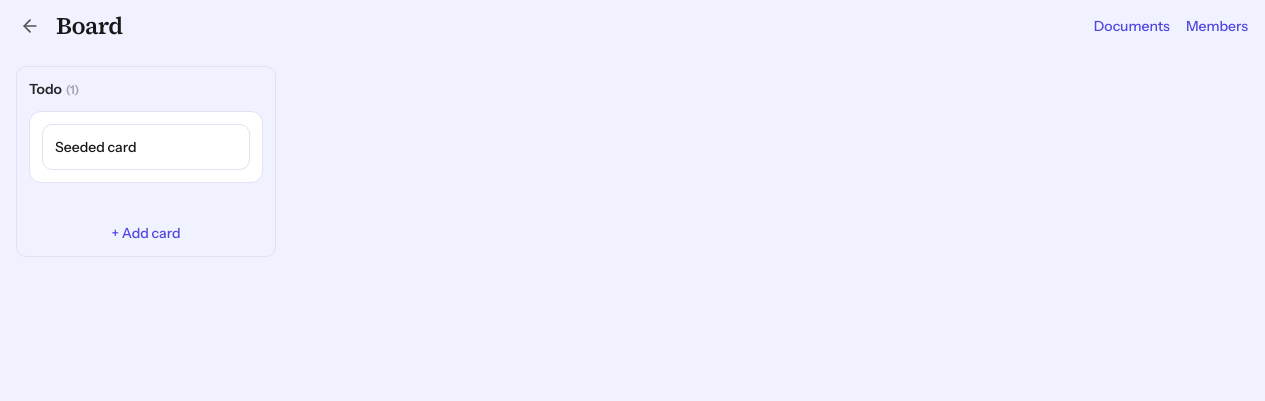
Test: Board › adds a card through the API when submitted
Click the button "+ Add card": (146, 233) [29,223,263,243]
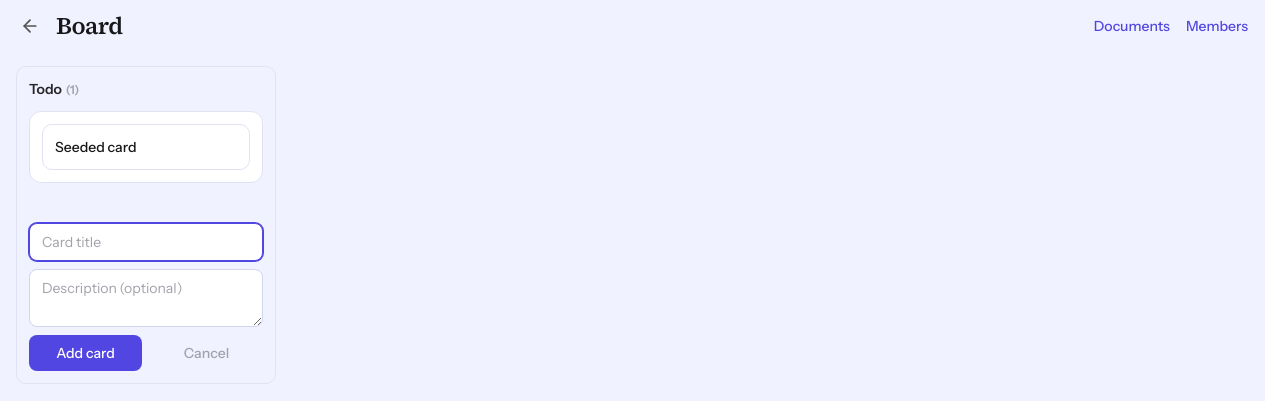
In the field with placeholder "Card title": (146, 242) [29,223,263,261], type "My new card"
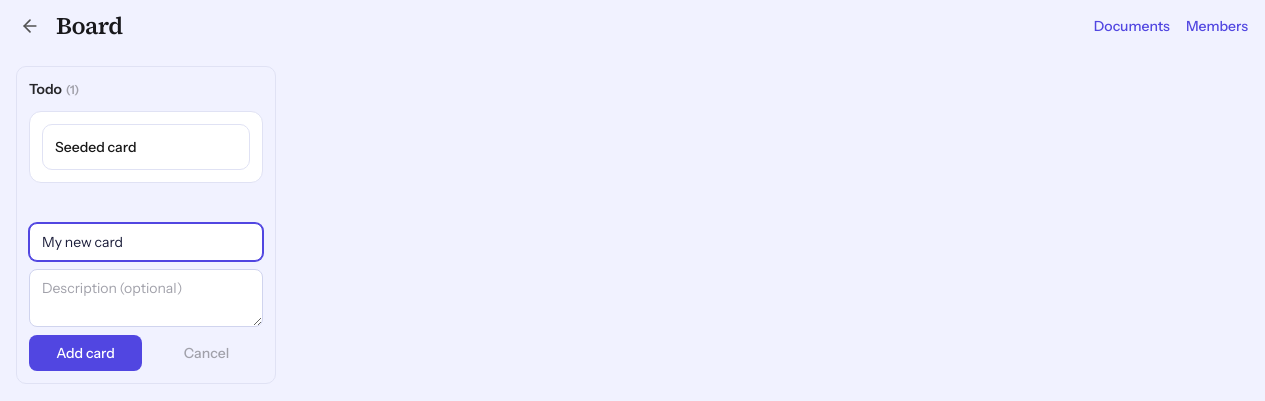
Click the button "Add card": (86, 353) [29,335,142,371]
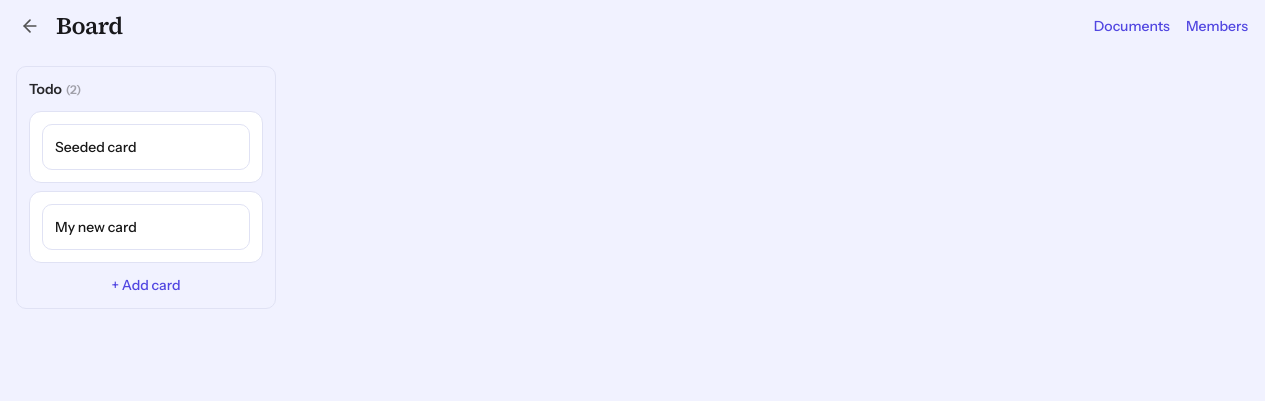
Check: the text "My new card" is shown, box [55,218,137,236]
